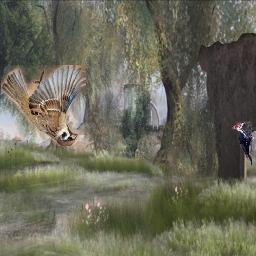Sparrow: (2, 66, 87, 147)
Woodpecker: (232, 122, 252, 167)
